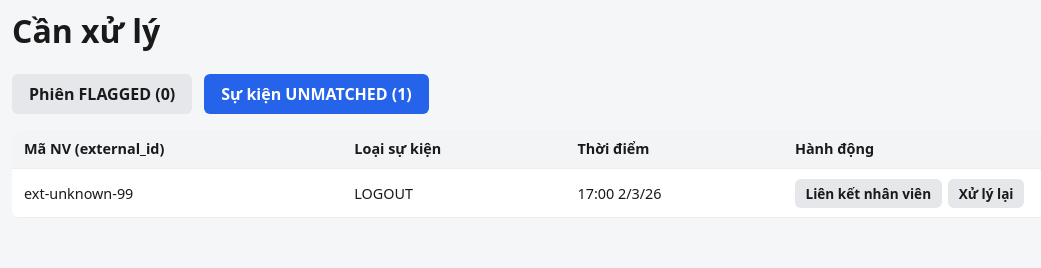
Test: NeedsAttentionPage › xử lý lại trả về trạng thái ERROR → sự kiện vẫn nằm trong danh sách và báo lỗi
Expected: the text "ext-unknown-99" is shown, top-left (12, 169), bottom-right (342, 218)
Click the button "Xử lý lại".
click(986, 193)  # box top-left (948, 179), bottom-right (1024, 208)
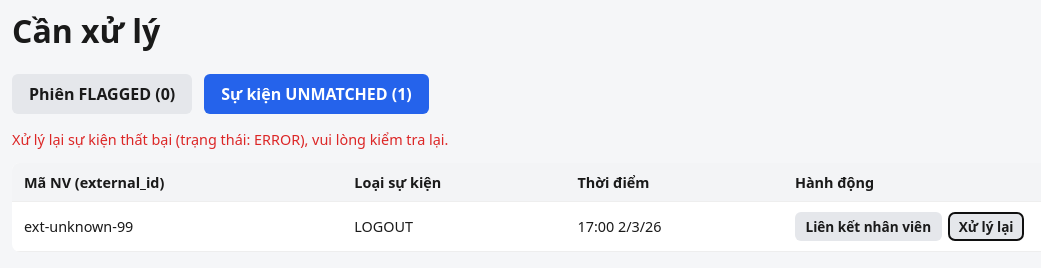
Expected: the text "ext-unknown-99" is shown, top-left (12, 202), bottom-right (342, 251)
Now the message shows "trạng thái: ERROR", box top-left (12, 130), bottom-right (448, 149)
